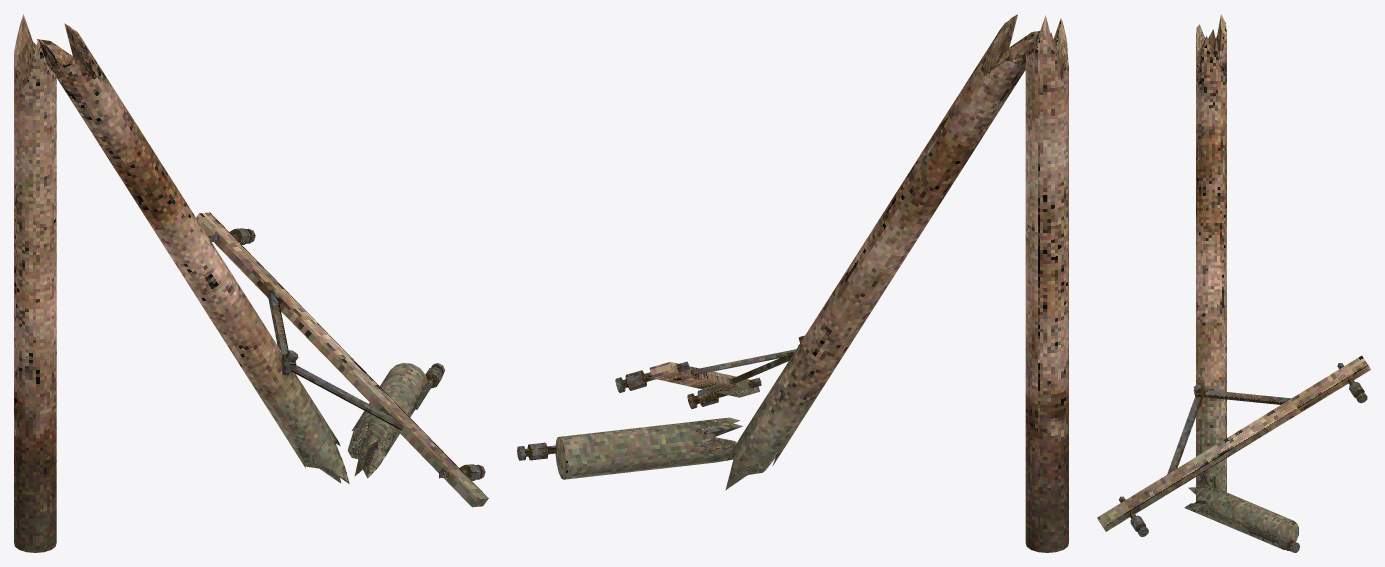
The model's file is E_Pole_Broken.glb.
3 renders of one model, left to right at view 1: azimuth 30°, elevation 25°; view 2: azimuth 150°, elevation 25°; view 3: azimuth 270°, elevation 25°, orthographic. The views are drawn at different scales.
Parts seen in each view (by area): view 1: E_Pole_Broken; view 2: E_Pole_Broken; view 3: E_Pole_Broken.
Boxes of the visible parts, x1,y1,x2,y2 form: E_Pole_Broken: [14, 14, 488, 552]; E_Pole_Broken: [517, 14, 1068, 552]; E_Pole_Broken: [1097, 14, 1370, 552].
Size of the model in its own units: 2.61 by 2.82 by 1.76.
Materials: 1 (1 with a texture image).
